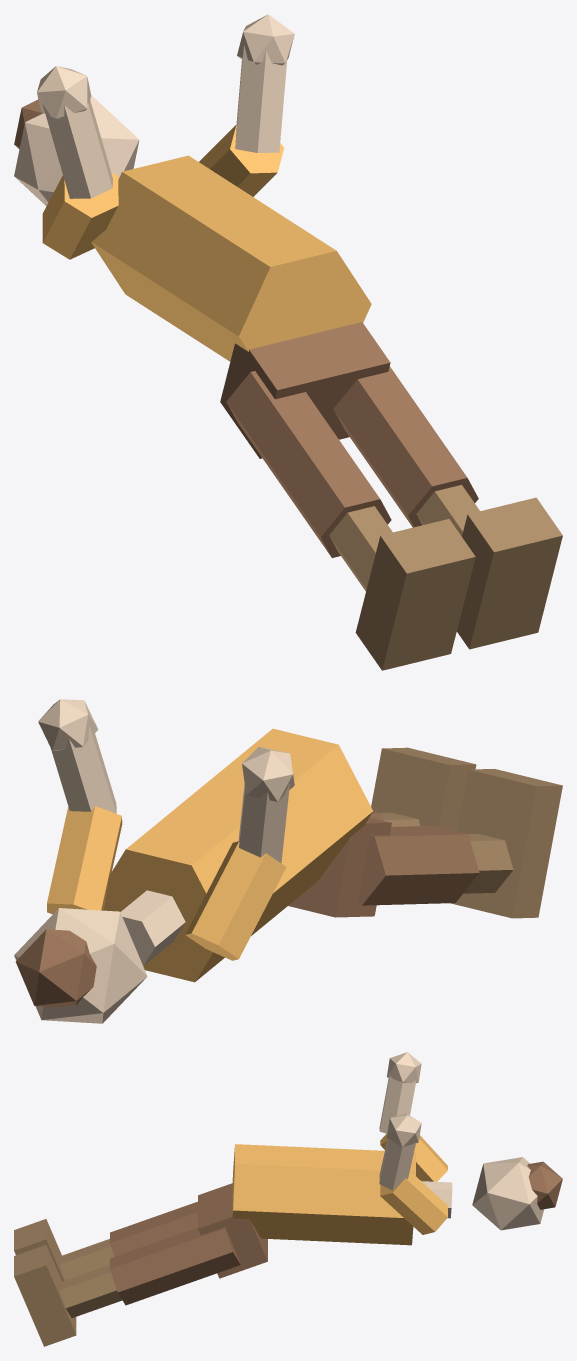
The model's file is pose_dodge_roll_41.glb.
3 views of the same model, one above another, from view 1: azimuth 30°, elevation 25°; view 2: azimuth 150°, elevation 25°; view 3: azimuth 270°, elevation 25° (orthographic). The views are drawn at different scales.
Visible parts, largest first — view 1: pose; view 2: pose; view 3: pose.
Part boxes in pixels (box(x1,y1,x2,y2)): pose: box(14, 14, 562, 670); pose: box(14, 699, 562, 1023); pose: box(14, 1052, 562, 1346).
Size of the model in its own units: 0.5074 by 0.7638 by 1.58.
